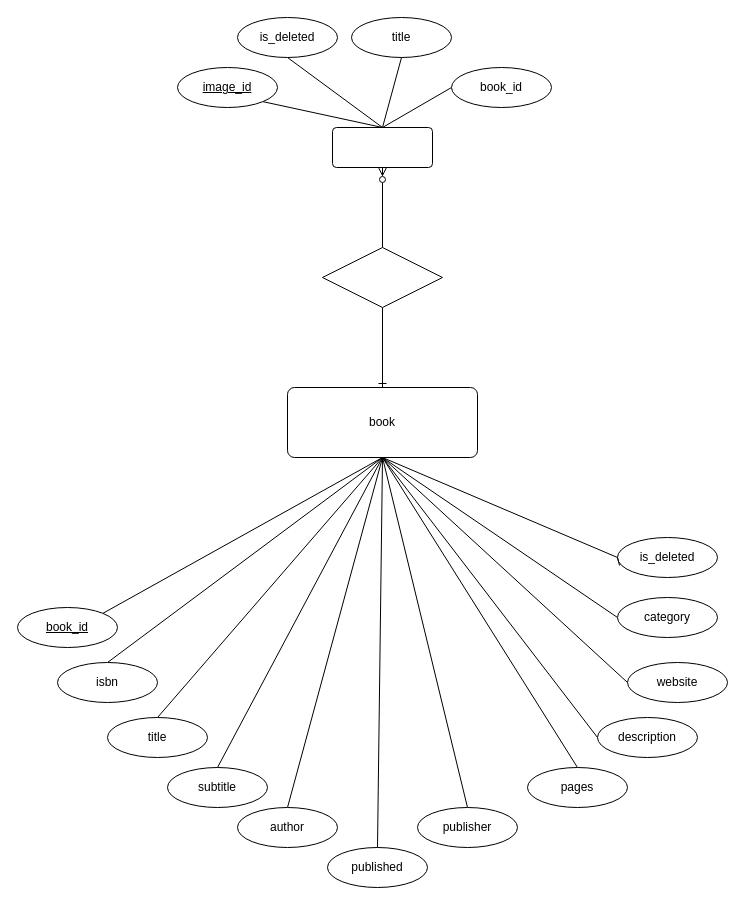
This 745x905 diagram has some shape labels left out. Each missing label, with the centre of its shape:
has: the point at 382,277
image: the point at 382,147
